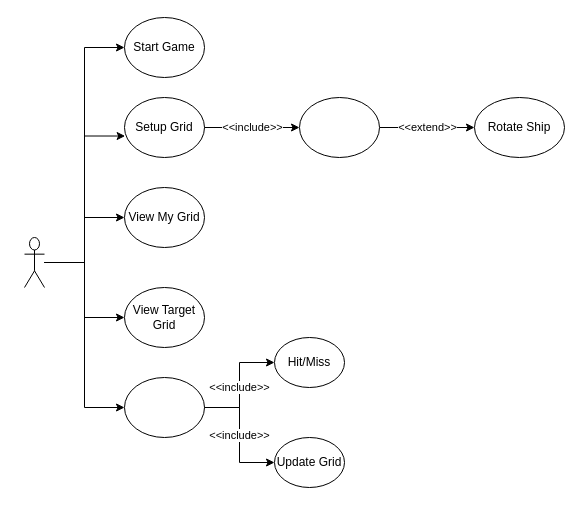
Image size: 582x505. Some labels were removed from this diagram. The shapes that lost their labels are listed below. From the top down, each one's box as (x1, y1, x2, y2) in pixels, then its label:
(298, 96, 380, 158): Place Ships
(24, 236, 44, 288): Player
(124, 376, 204, 438): Fire Shot
